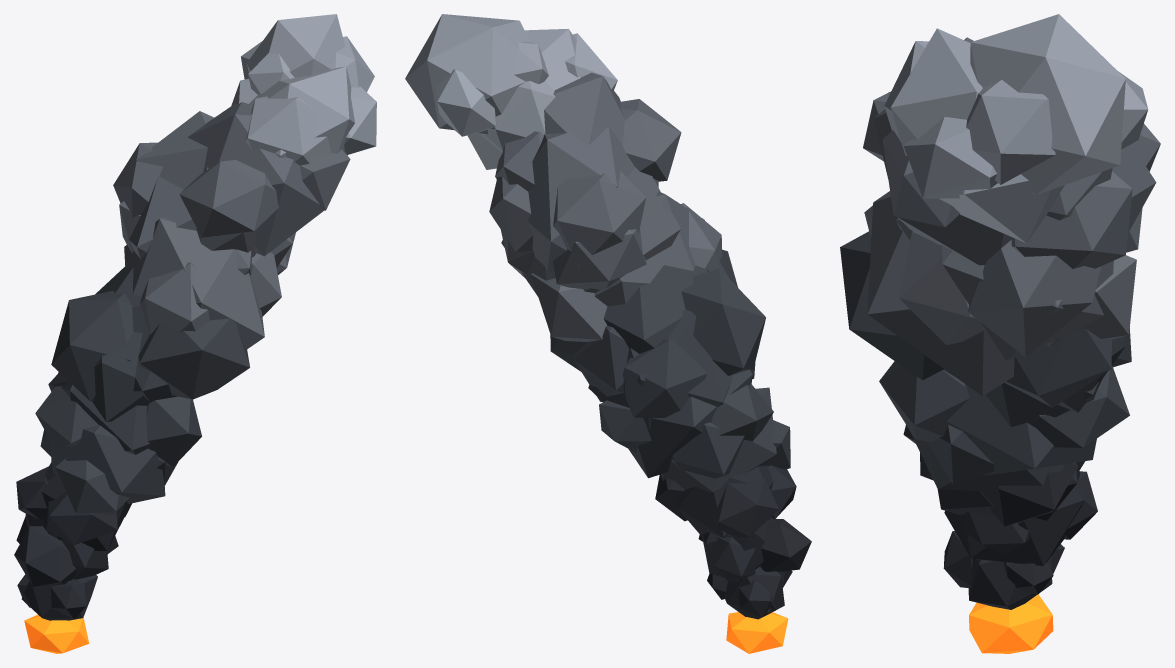
The model's file is fx_smoke_factory_heavy.glb.
The picture shows the model from 3 angles, left to right: view 1: azimuth 30°, elevation 25°; view 2: azimuth 150°, elevation 25°; view 3: azimuth 270°, elevation 25°; orthographic projection. The views are drawn at different scales.
Parts seen in each view (by area): view 1: fx_smoke_factory_heavy_smoke_dark, fx_smoke_factory_heavy_smoke_soot, fx_smoke_factory_heavy_smoke_mid, fx_smoke_factory_heavy_soot_core, fx_smoke_factory_heavy_ember_base; view 2: fx_smoke_factory_heavy_smoke_dark, fx_smoke_factory_heavy_smoke_soot, fx_smoke_factory_heavy_smoke_mid, fx_smoke_factory_heavy_soot_core, fx_smoke_factory_heavy_ember_base; view 3: fx_smoke_factory_heavy_smoke_dark, fx_smoke_factory_heavy_smoke_mid, fx_smoke_factory_heavy_smoke_soot, fx_smoke_factory_heavy_soot_core, fx_smoke_factory_heavy_ember_base.
Part boxes in pixels (x1,y1,x2,y2): fx_smoke_factory_heavy_smoke_dark: (113,102,350,349); fx_smoke_factory_heavy_smoke_soot: (35,266,249,515); fx_smoke_factory_heavy_smoke_mid: (231,14,376,165); fx_smoke_factory_heavy_soot_core: (14,461,131,620); fx_smoke_factory_heavy_ember_base: (24,614,89,653); fx_smoke_factory_heavy_smoke_dark: (489,72,722,341); fx_smoke_factory_heavy_smoke_soot: (550,249,790,492); fx_smoke_factory_heavy_smoke_mid: (405,14,617,169); fx_smoke_factory_heavy_soot_core: (655,465,811,619); fx_smoke_factory_heavy_ember_base: (726,612,788,653); fx_smoke_factory_heavy_smoke_dark: (863,37,1160,396); fx_smoke_factory_heavy_smoke_mid: (884,14,1148,243); fx_smoke_factory_heavy_smoke_soot: (840,231,1131,491); fx_smoke_factory_heavy_soot_core: (920,453,1097,609); fx_smoke_factory_heavy_ember_base: (969,594,1053,653).
Bounding box in the file's own units: 1.72 × 2.59 × 0.9343.
